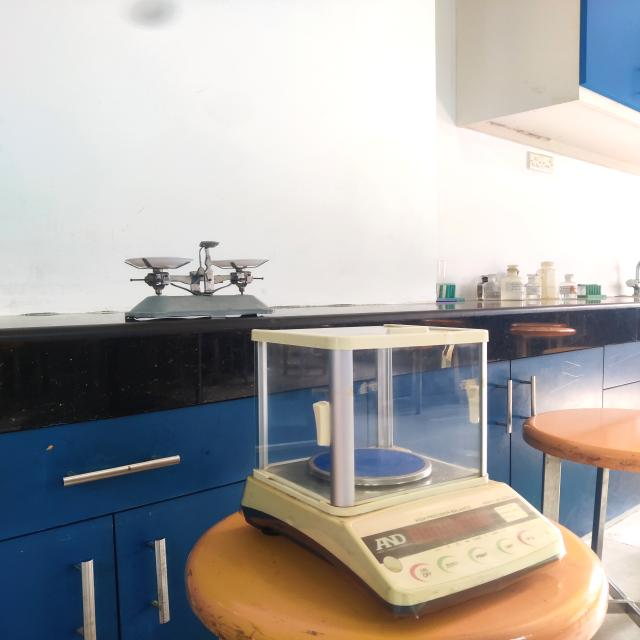Mechanical_Balance_Scale: (100, 220, 288, 334)
Precision_Weight_Scale: (222, 315, 591, 629)
